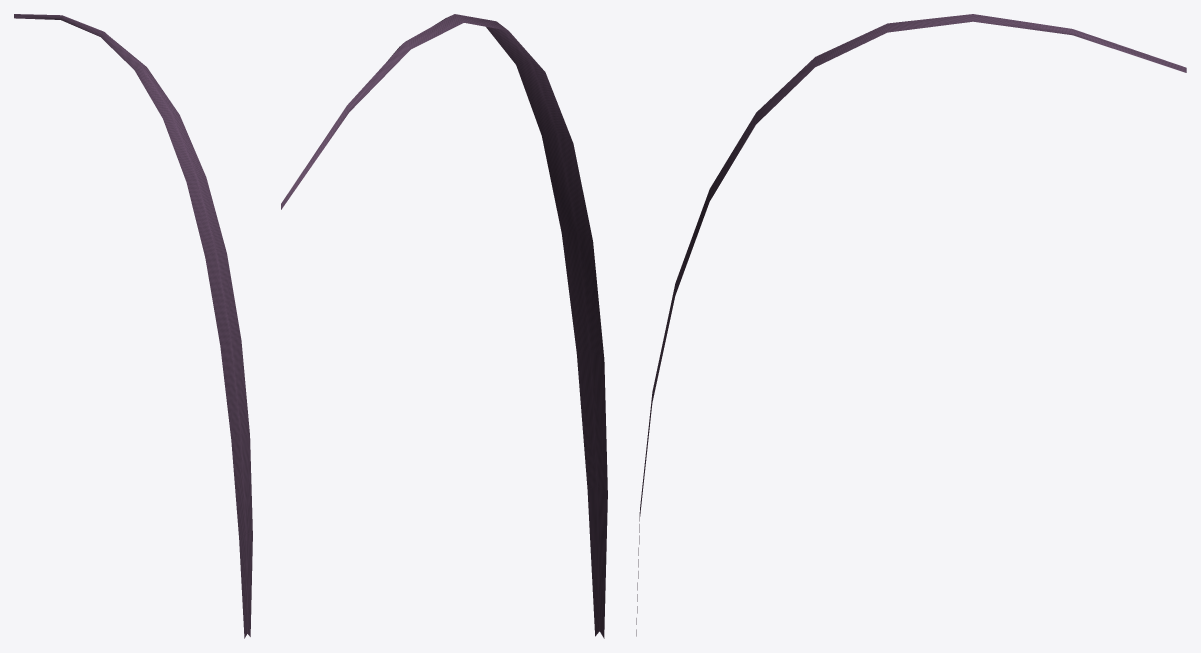
The model's file is single_blade_09.glb.
3 views of the same model, side by side, from view 1: azimuth 30°, elevation 25°; view 2: azimuth 150°, elevation 25°; view 3: azimuth 270°, elevation 25° (orthographic). The views are drawn at different scales.
Visible parts, largest first — view 1: export; view 2: export; view 3: export.
Part boxes in pixels (box(x1,y1,x2,y2)): export: box(14, 14, 252, 638); export: box(281, 14, 607, 638); export: box(636, 14, 1186, 636).
Size of the model in its own units: 0.0458 by 1.01 by 0.8111.
1 material, 1 textured.
